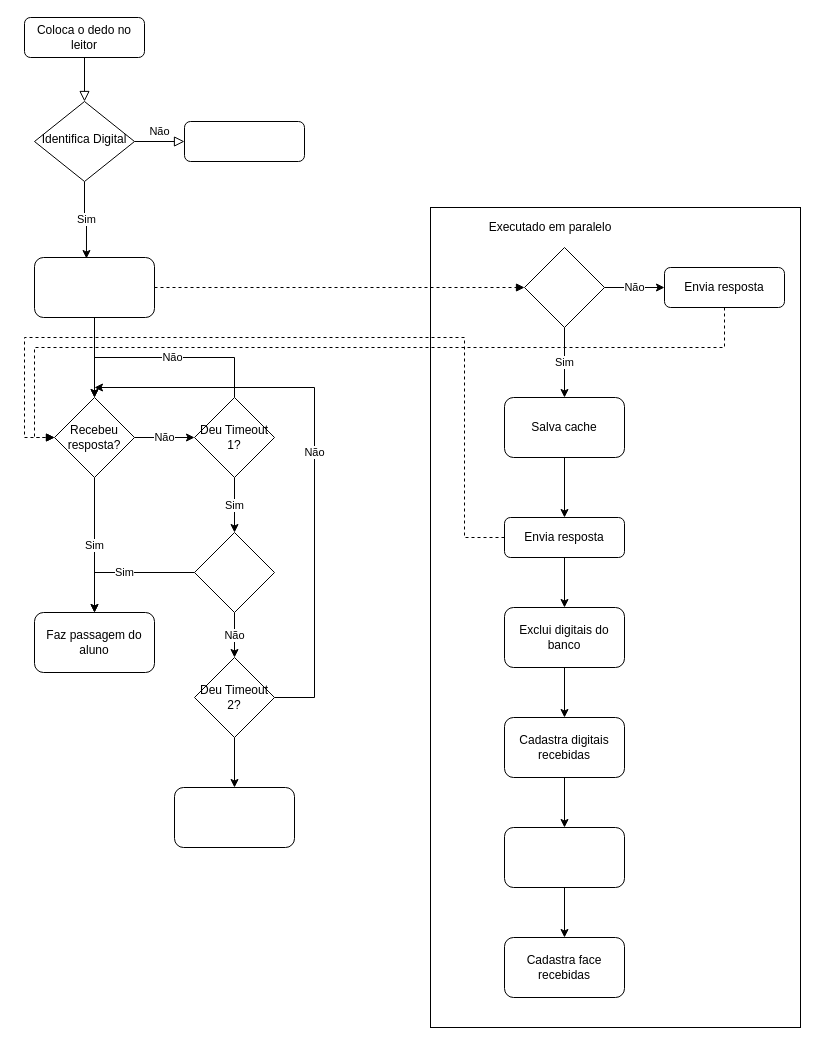
The diagram is 818 pixels wide and 1045 high, and some of its shapes have lost their labels. The box of each missing label's shape, as (x1, y1, x2, y2) in pixels:
Exclui face do banco: (504, 826, 624, 888)
Exibe msg "Offline e sem cache": (174, 786, 294, 848)
Faz requisição para SS: (34, 256, 154, 318)
Mantenha seu dedo no leitor....: (184, 120, 304, 162)
SS encontrou o aluno: (524, 246, 604, 328)
Tem Cache?: (194, 532, 274, 612)
